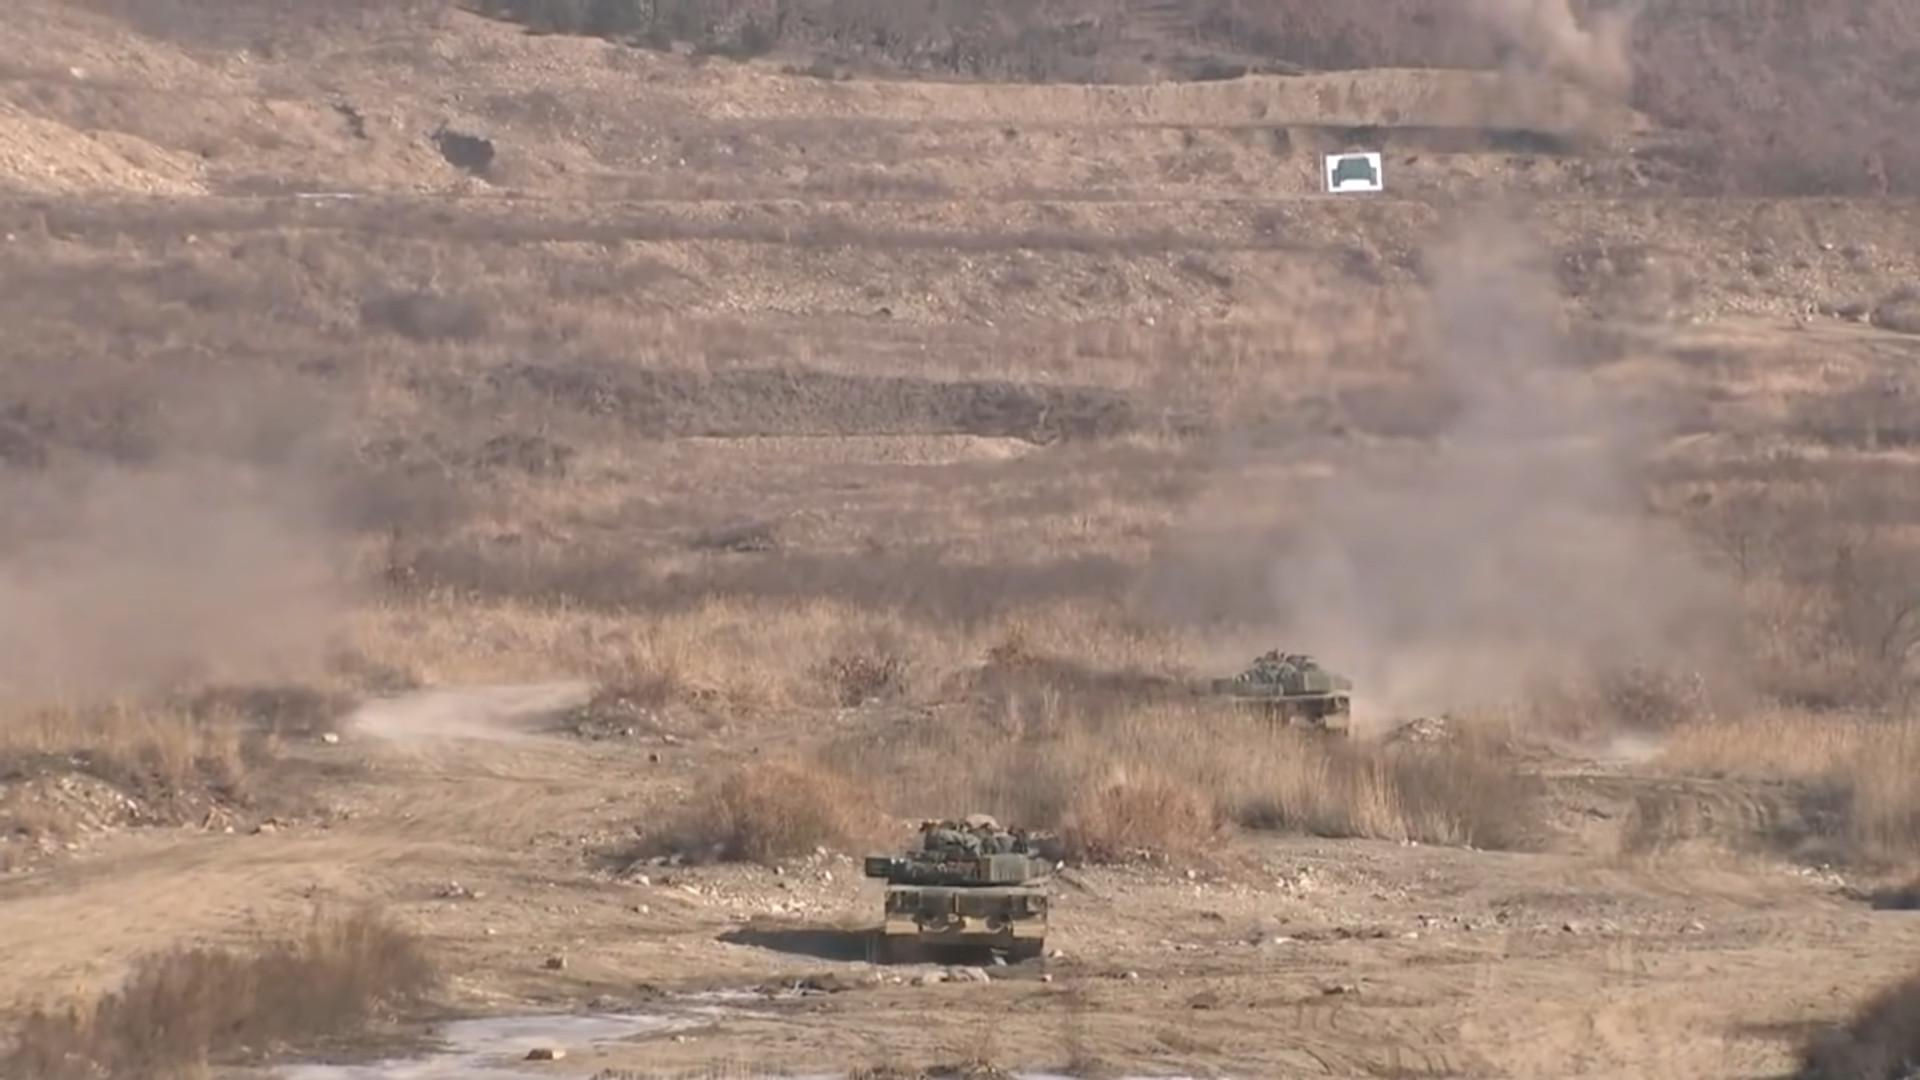tank: (864, 818, 1052, 964), (1209, 647, 1352, 740)
